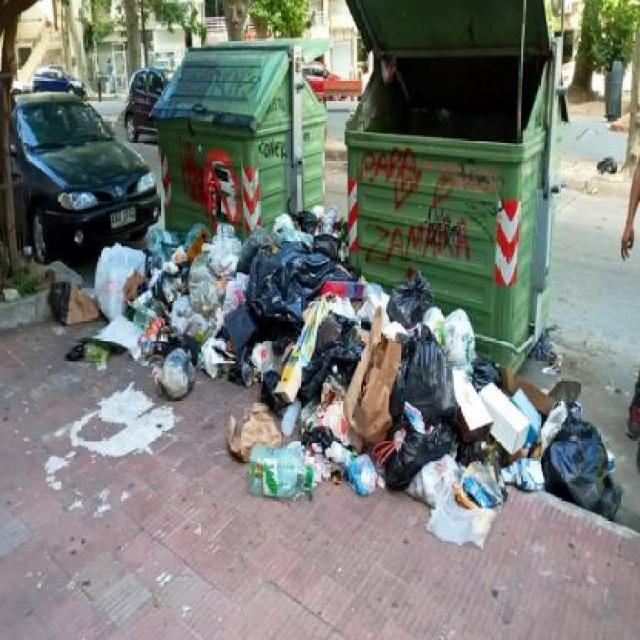garbage: (56, 197, 620, 554)
